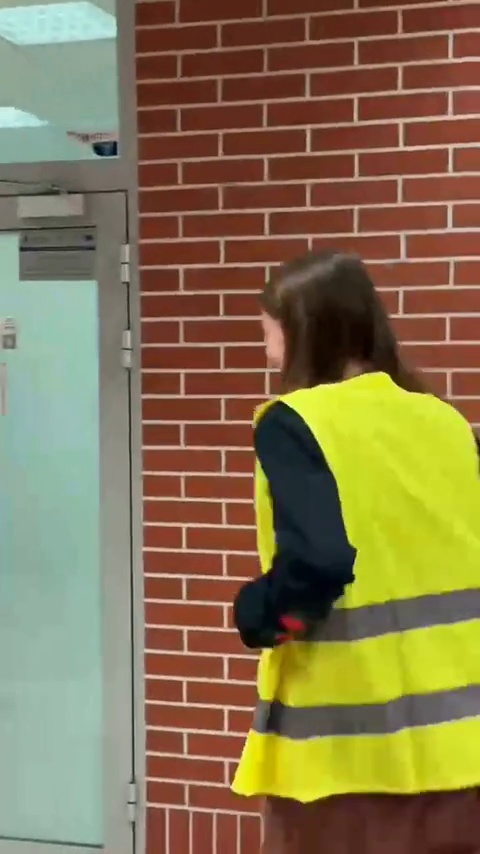vest: (233, 255, 478, 854)
